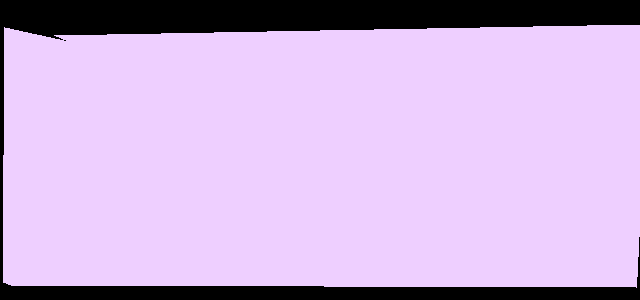Train: (3, 24, 640, 288)
